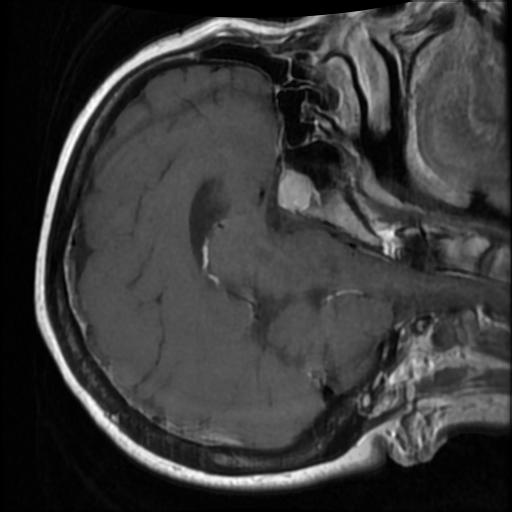pituitary tumour: (277, 169, 312, 211)
